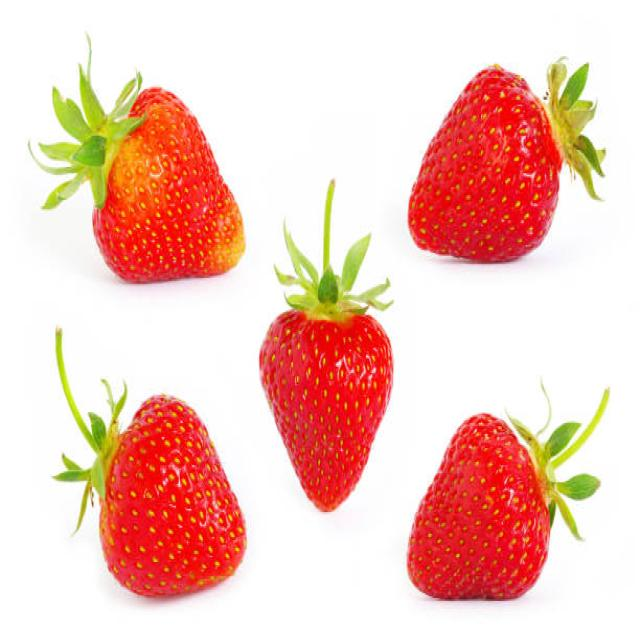Healthy Fruit: (90, 86, 245, 282), (407, 64, 559, 261), (101, 396, 247, 596), (260, 309, 395, 516), (405, 411, 551, 601)
